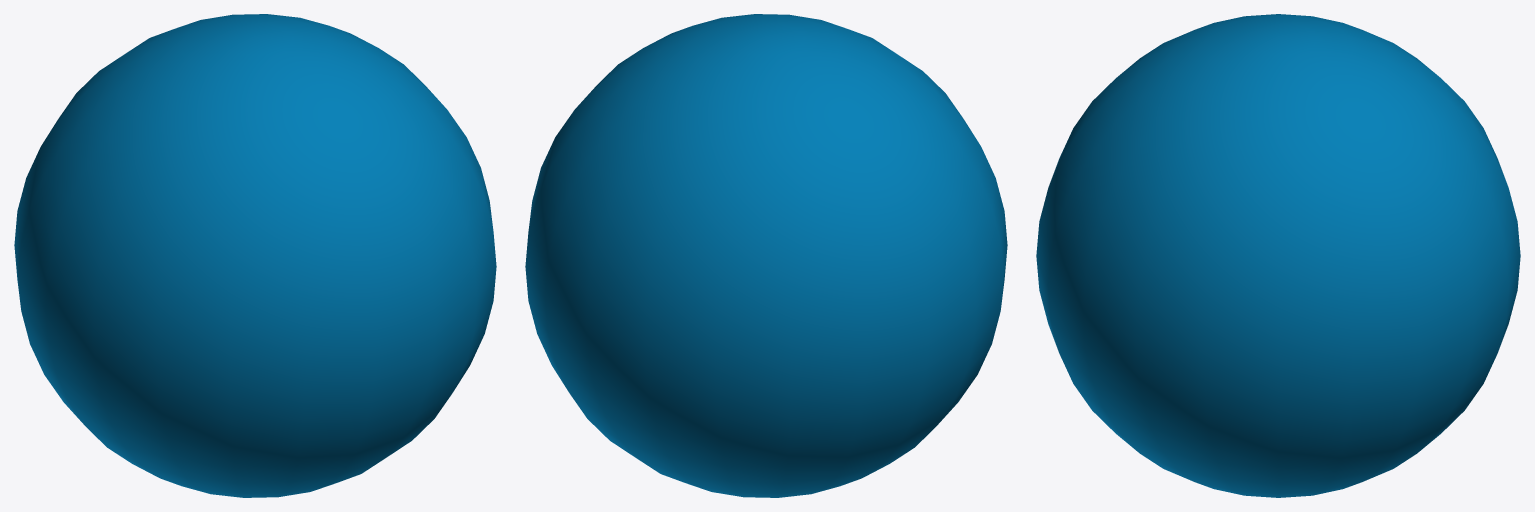
3 views of the same model, side by side, from view 1: azimuth 30°, elevation 25°; view 2: azimuth 150°, elevation 25°; view 3: azimuth 270°, elevation 25° (orthographic).
Parts seen in each view (by area): view 1: pSphere1; view 2: pSphere1; view 3: pSphere1.
Part boxes in pixels (x1,y1,x2,y2): pSphere1: (14, 14, 496, 497); pSphere1: (525, 14, 1007, 497); pSphere1: (1036, 14, 1520, 497).
Size of the model in its own units: 0.932 by 0.932 by 0.932.
